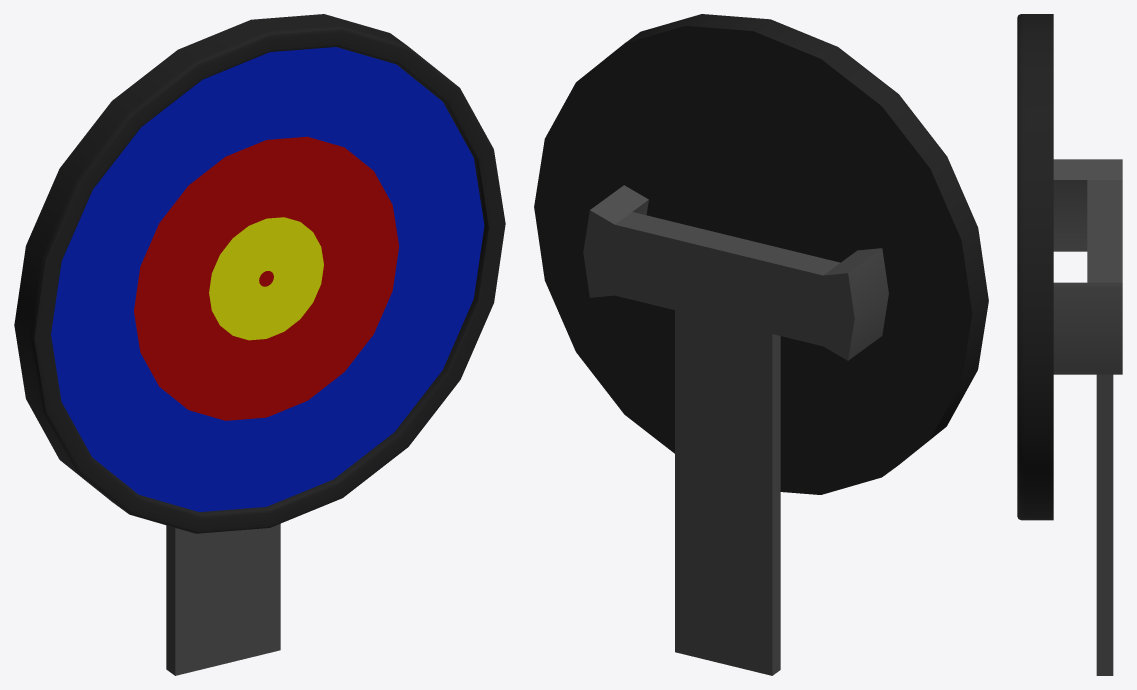
Rendered from TargetUP.fbx.
3 views of the same model, side by side, from view 1: azimuth 30°, elevation 25°; view 2: azimuth 150°, elevation 25°; view 3: azimuth 270°, elevation 25° (orthographic). The views are drawn at different scales.
Parts seen in each view (by area): view 1: pCylinder3; view 2: pCylinder3; view 3: pCylinder3.
Boxes of the visible parts, x1=… form: pCylinder3: x1=14, y1=14, x2=505, y2=675; pCylinder3: x1=534, y1=14, x2=988, y2=675; pCylinder3: x1=1017, y1=14, x2=1122, y2=675.
Bounding box in the file's own units: 2 × 2.67 × 0.4134.
